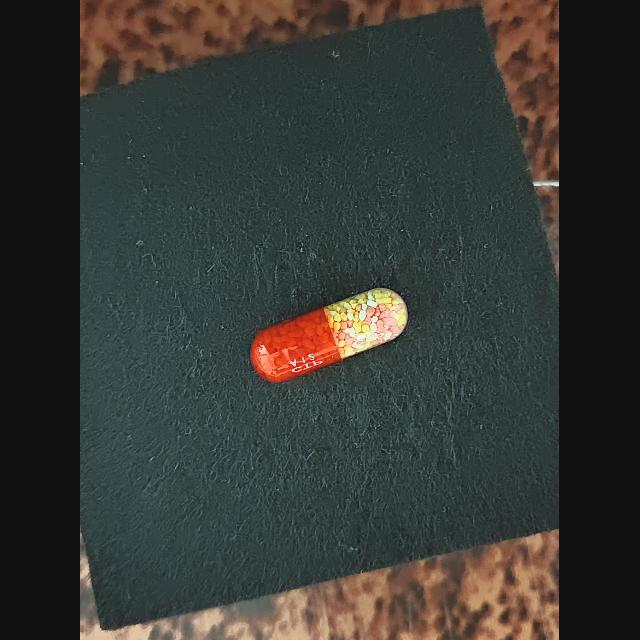Intact Capsule: (251, 288, 408, 383)
